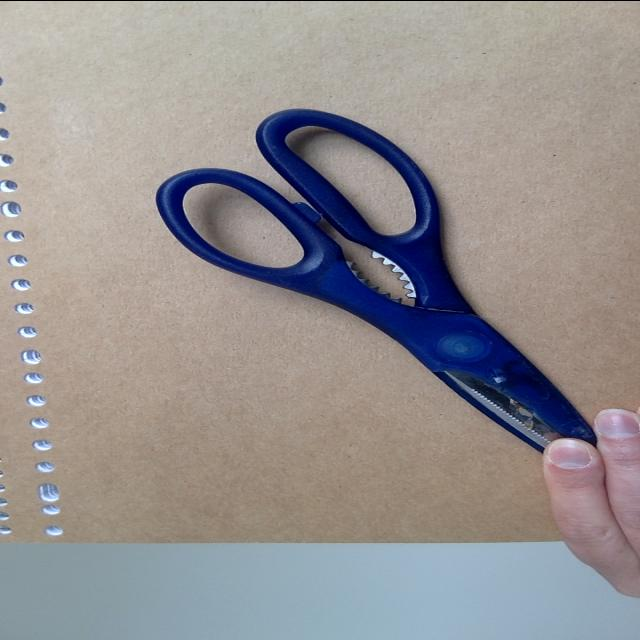scissor: (146, 104, 574, 460)
